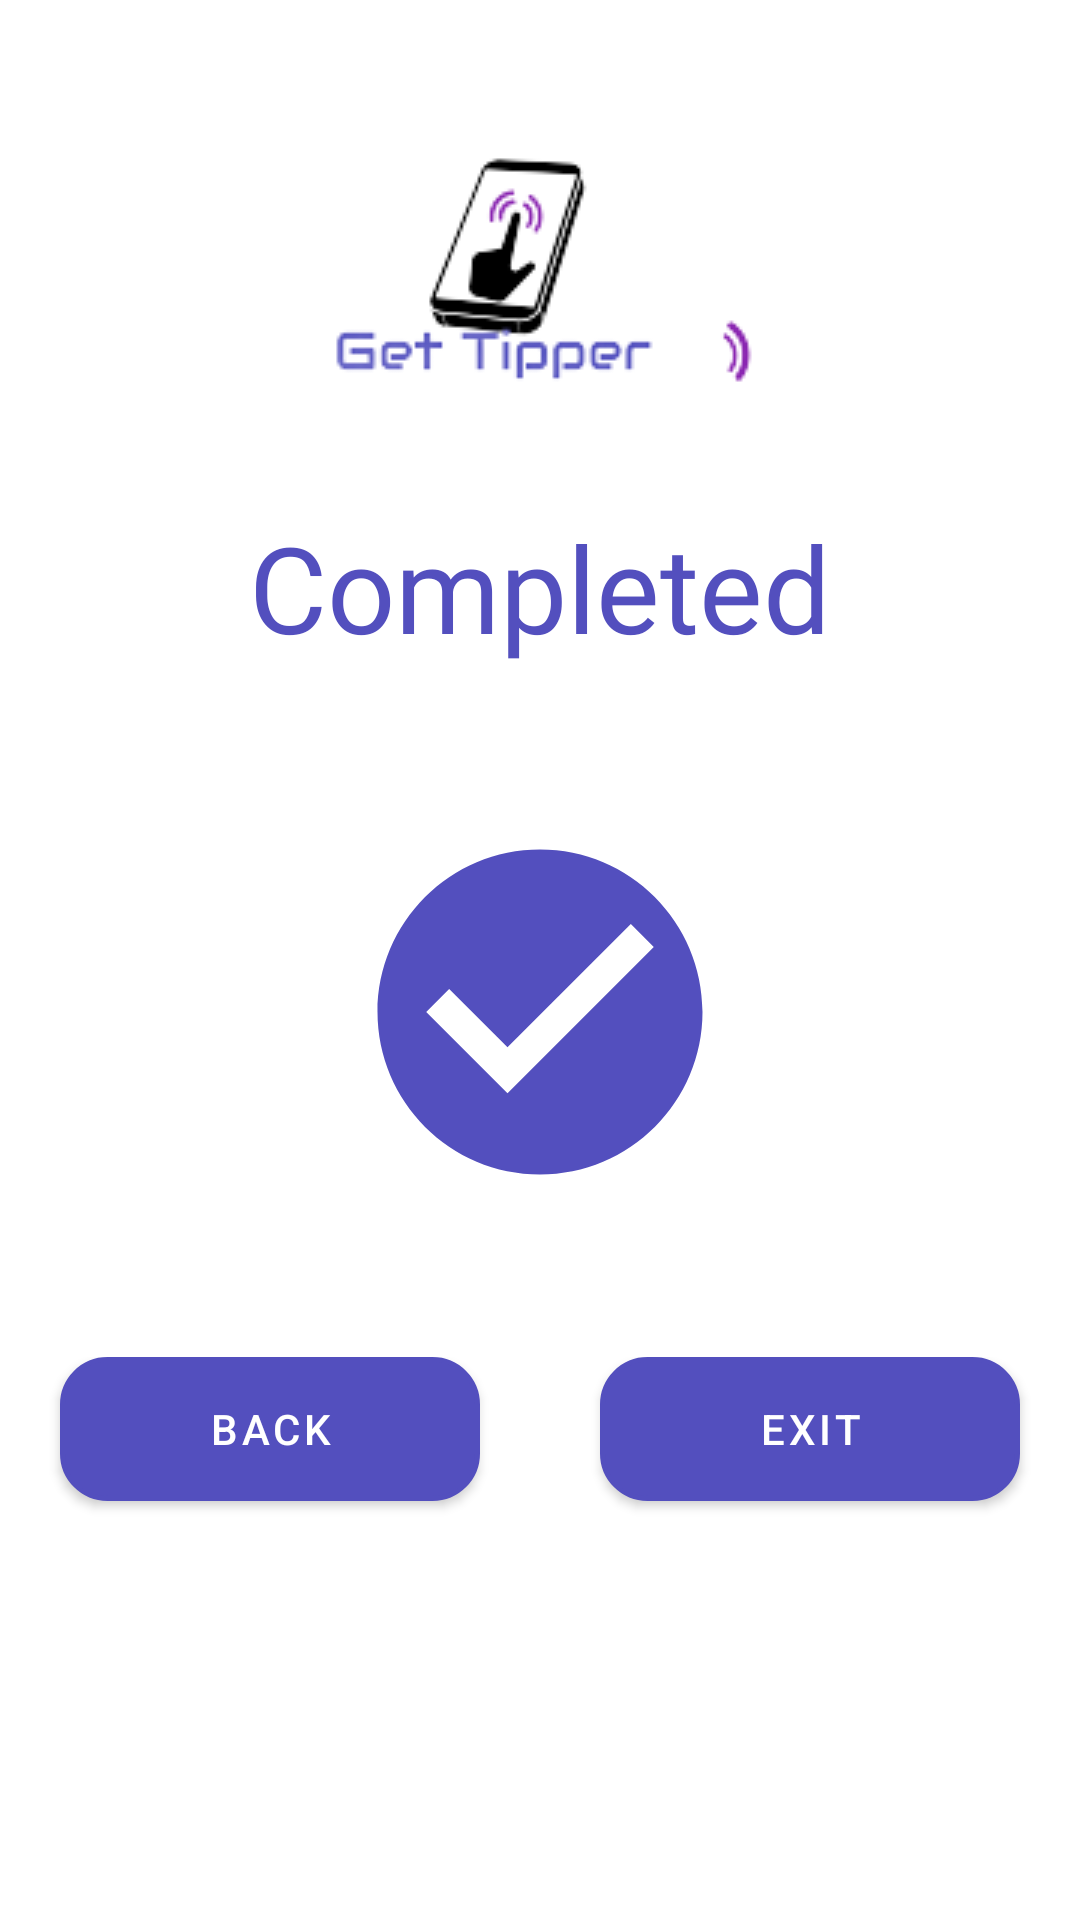

Screen size 1080w x 1920h. Icon name, then its center in pixels as [x,y]:
check circle: [540,1012]
